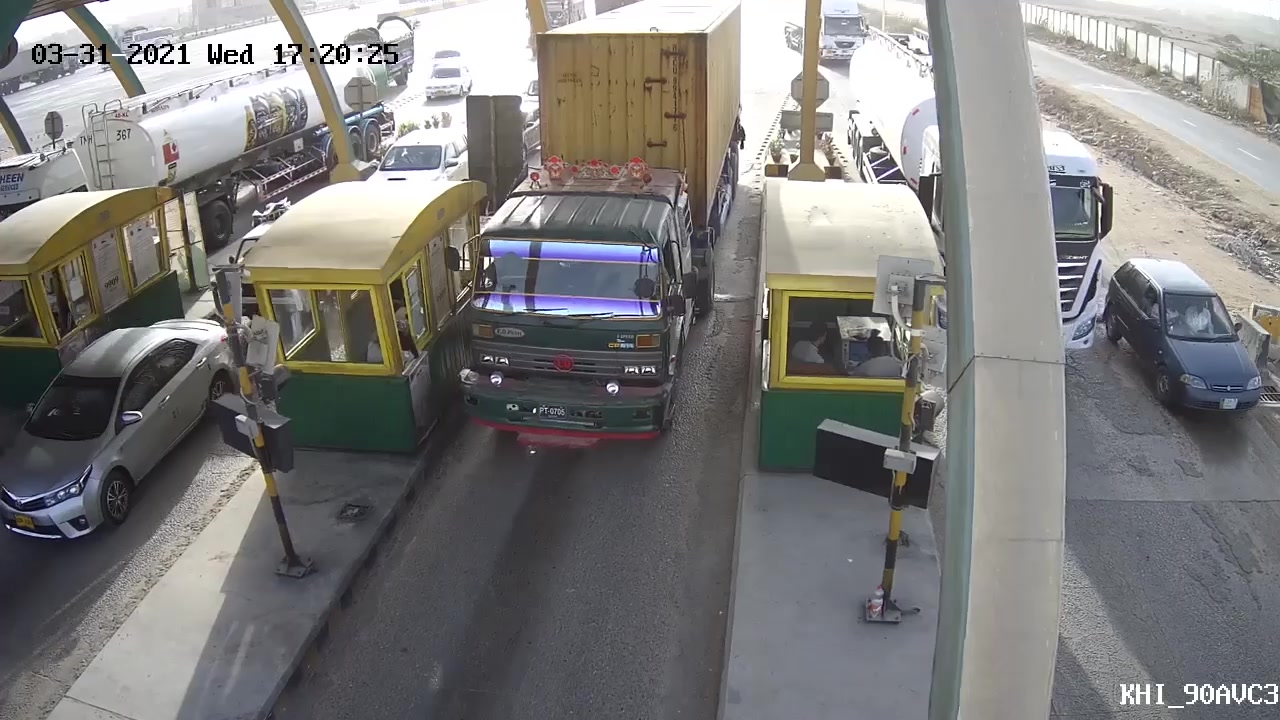F6: (460, 1, 752, 461)
